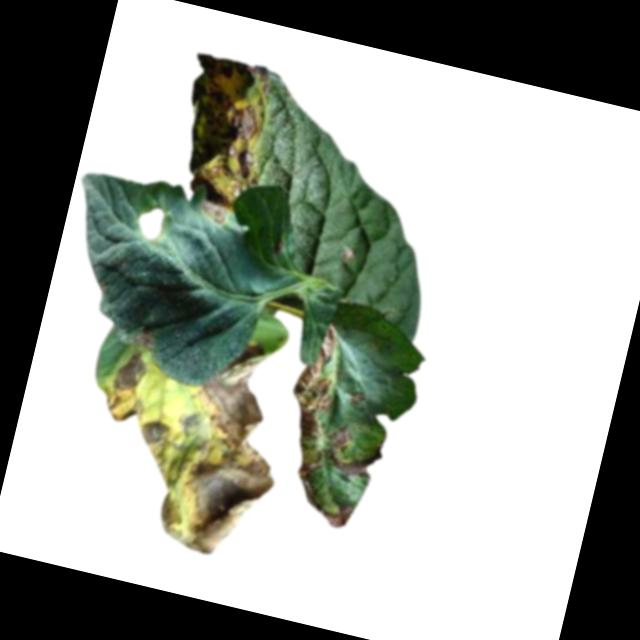Early_blight: (117, 319, 306, 565), (161, 49, 283, 229), (283, 319, 346, 442), (96, 342, 156, 425), (321, 441, 383, 479), (291, 449, 325, 506), (310, 496, 355, 532), (325, 421, 353, 452), (128, 324, 160, 351), (348, 387, 366, 407)
